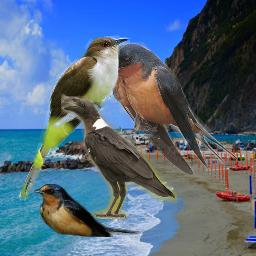Crow: (61, 96, 177, 219)
Cuckoo: (18, 35, 130, 201)
Swallow: (106, 42, 238, 175), (34, 184, 142, 237)
